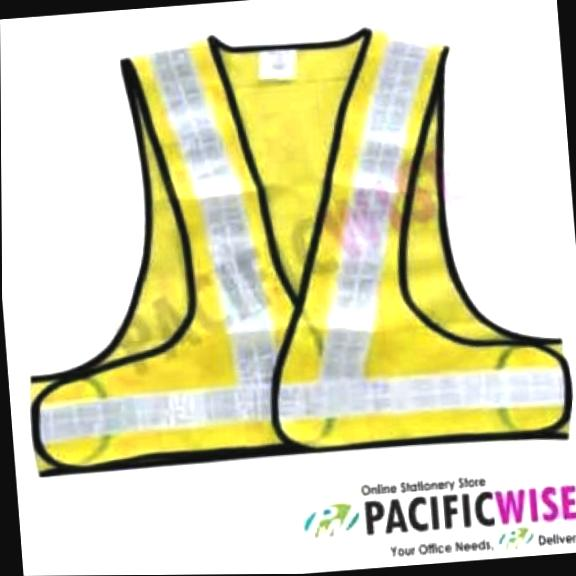safety_vest: (5, 9, 576, 480)
